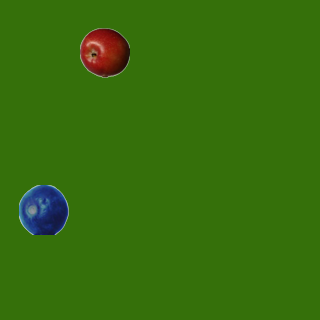Apple Braeburn: (79, 27, 129, 77)
Huckleberry: (18, 184, 68, 234)
